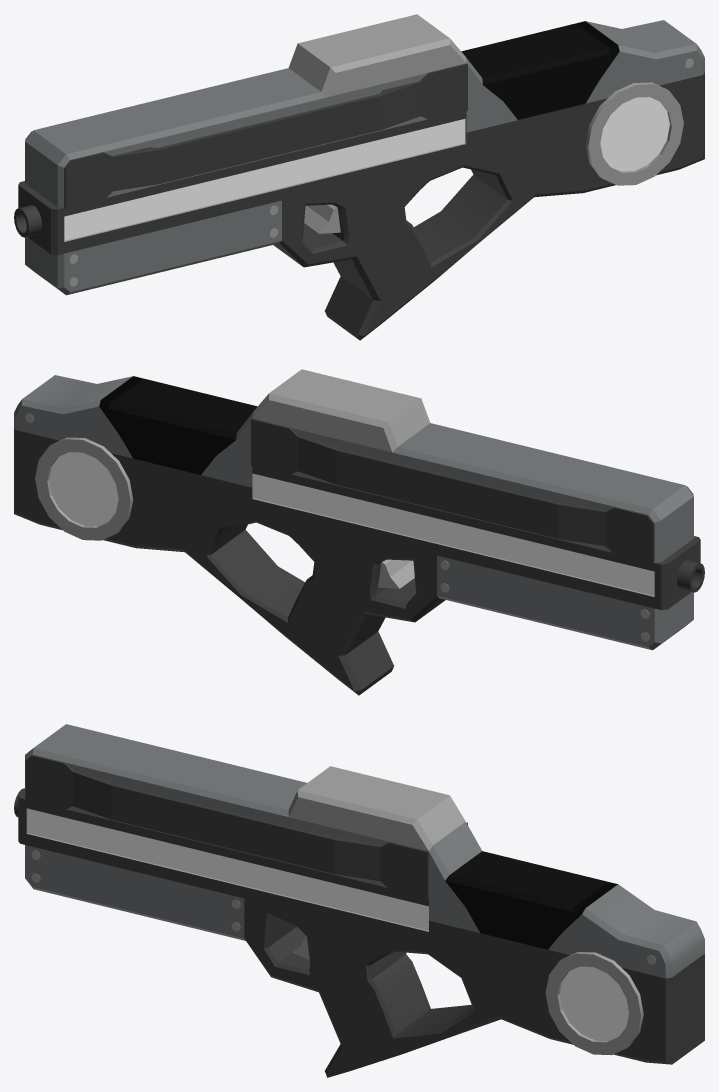
Rendered from Gun_V2.fbx.
3 views of the same model, one above another, from view 1: azimuth 30°, elevation 25°; view 2: azimuth 150°, elevation 25°; view 3: azimuth 330°, elevation 25° (orthographic).
Parts seen in each view (by area): view 1: Gun; view 2: Gun; view 3: Gun.
Boxes of the visible parts, box(x1,y1,x2,y2) form: Gun: box(14, 14, 704, 340); Gun: box(14, 369, 704, 695); Gun: box(14, 724, 704, 1077).
Size of the model in its own units: 15.33 by 6.16 by 1.94.
